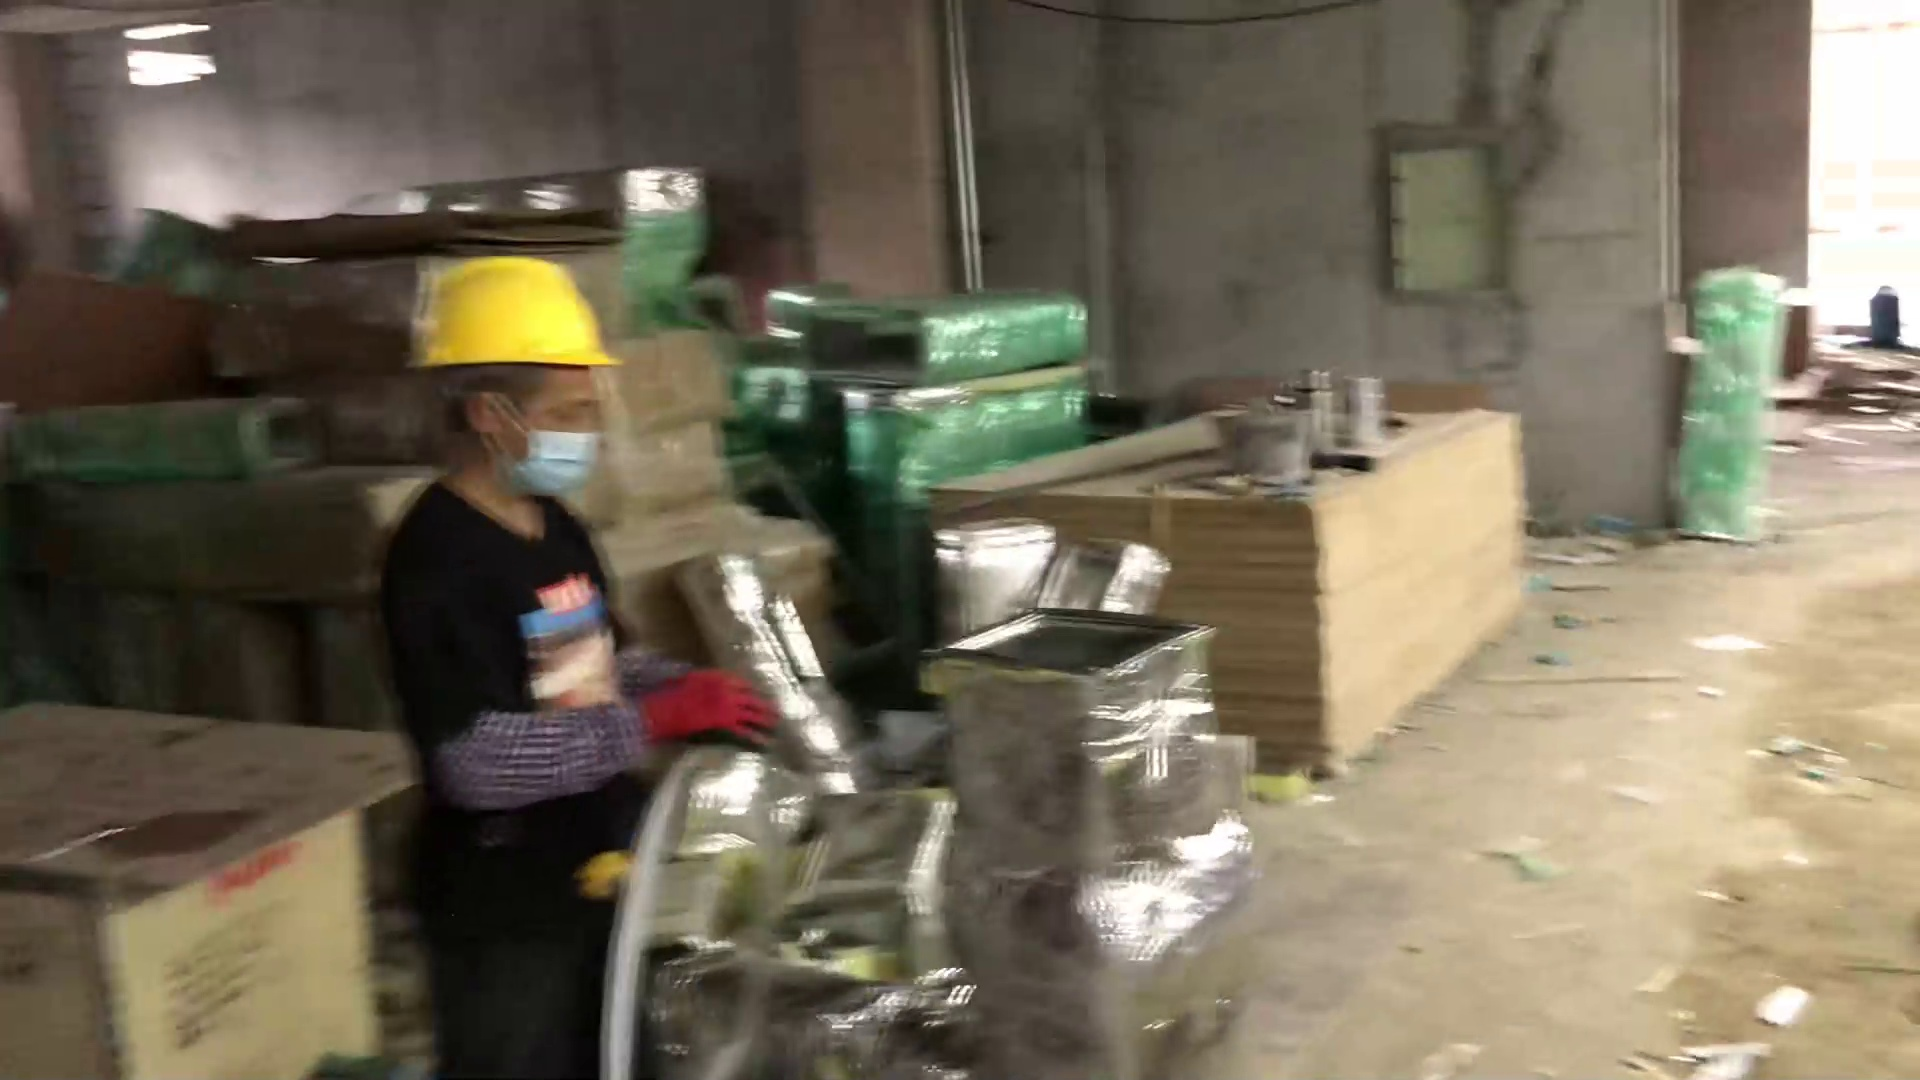board: (926, 378, 1538, 781)
helmet: (400, 247, 641, 390)
person: (367, 240, 800, 1080)
